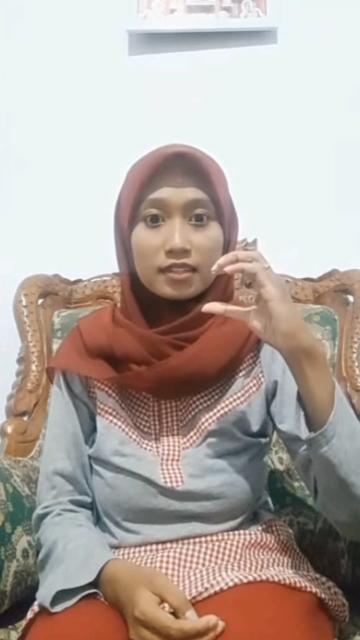C: (200, 247, 325, 361)
